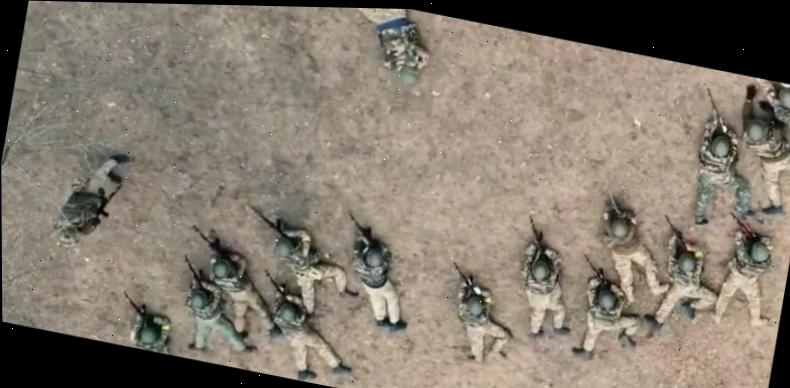person: (230, 203, 369, 331), (173, 224, 299, 348), (245, 267, 366, 388), (683, 86, 774, 237), (327, 209, 424, 336), (587, 188, 682, 313), (167, 254, 271, 365), (640, 213, 729, 341), (507, 214, 589, 345), (565, 253, 651, 371), (704, 211, 786, 334), (319, 7, 437, 87), (436, 260, 523, 368), (722, 82, 790, 220), (52, 142, 132, 256), (737, 76, 790, 180), (114, 290, 195, 358)
